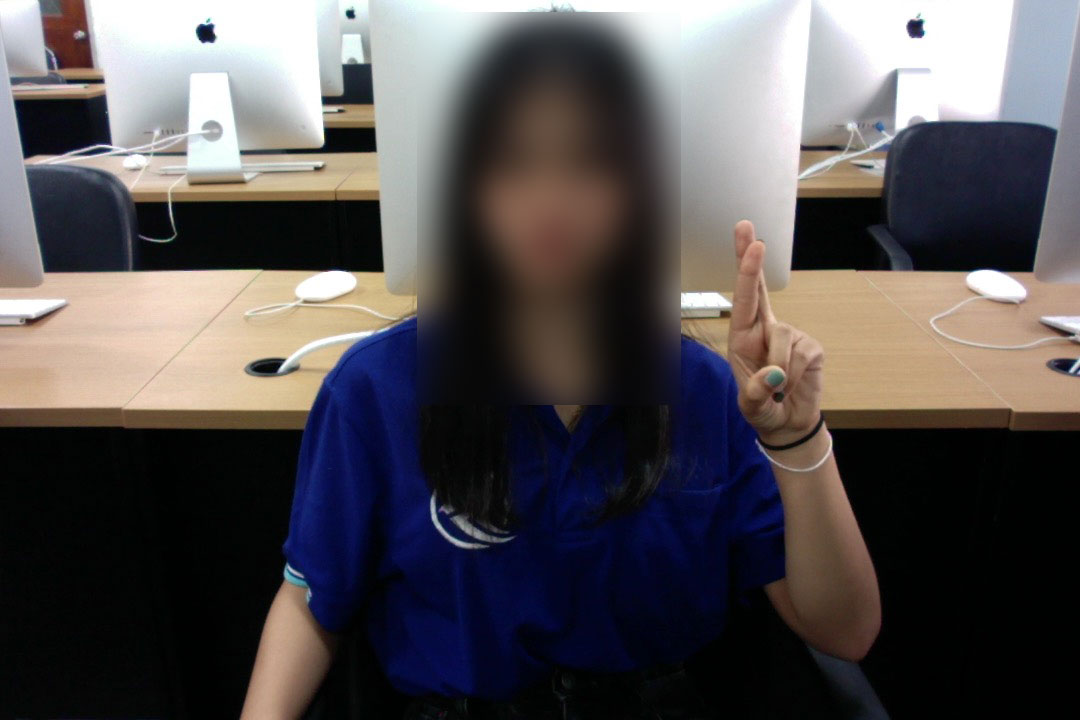rao: (719, 212, 835, 456)
